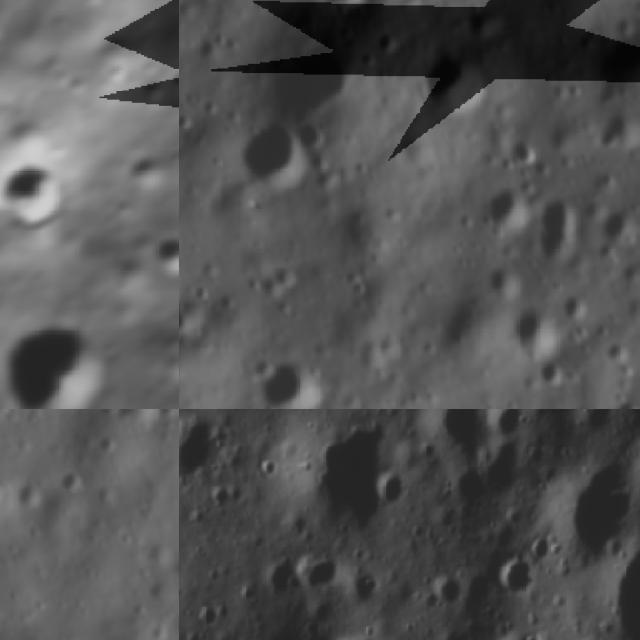crater: (5, 289, 136, 404), (0, 132, 101, 254), (272, 26, 348, 117), (241, 121, 300, 188), (426, 48, 483, 110), (49, 458, 103, 512), (536, 201, 580, 265), (141, 217, 179, 288), (179, 287, 221, 347), (509, 299, 555, 352), (103, 409, 170, 443), (266, 364, 314, 409), (7, 409, 109, 430), (0, 455, 24, 541), (179, 411, 209, 472), (494, 558, 536, 600), (295, 550, 337, 592), (605, 202, 640, 251), (480, 188, 520, 230), (368, 470, 404, 510), (430, 572, 466, 610), (490, 411, 529, 445), (537, 359, 575, 388), (351, 576, 387, 606), (566, 288, 594, 321), (301, 120, 328, 152), (311, 0, 371, 11), (322, 633, 385, 640), (489, 633, 535, 640)
